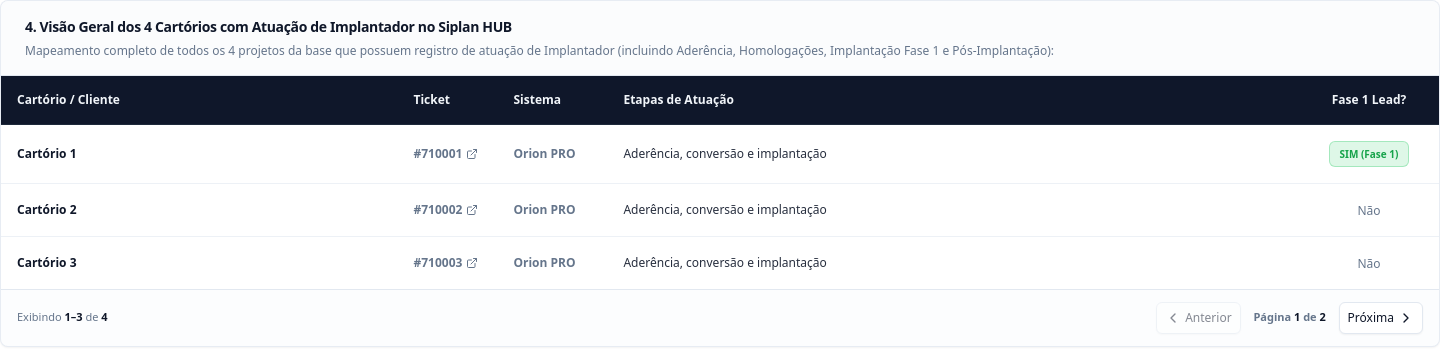
Test: relatórios no mobile › pagina separadamente a visão geral dos cartórios
This screenshot has width=1440, height=364.
Expected: the text "Cartório 4" is not shown
Click the button with aria-label "Próxima página de cartórios com atuação" at (1381, 318), box [1339,302,1423,334]
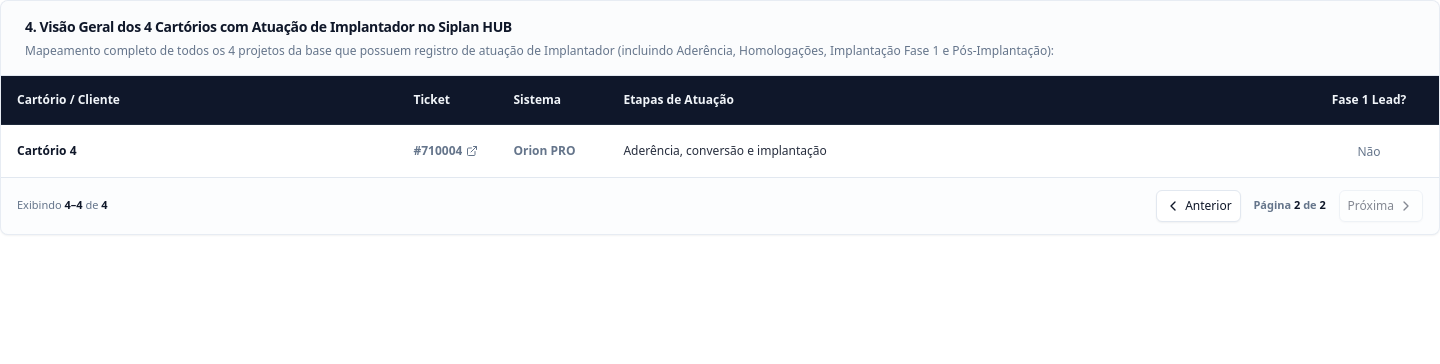
Now the text "Cartório 1" is gone
